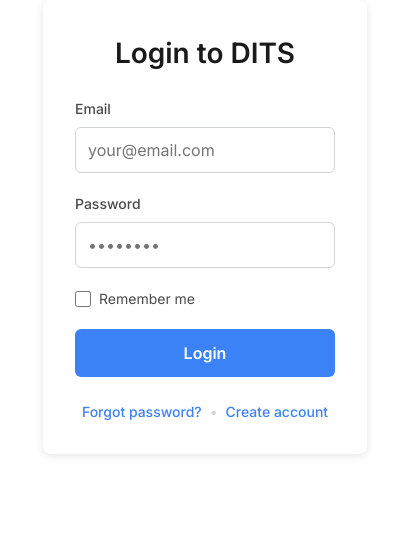
Scenario: LoginForm - Validation Logic › should display error message when login fails
The image size is (411, 537).
Type "test@example.com" into the field labelled "Email".
click(205, 150); type("test@example.com")  # box x1=75 y1=127 x2=335 y2=173
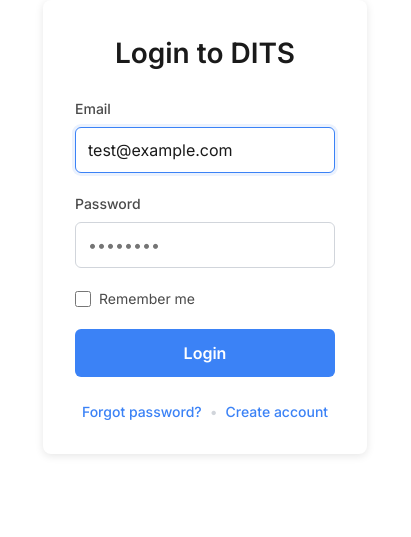
Type "wrongpassword" into the password field labelled "Password".
click(205, 245); type("wrongpassword")  # box x1=75 y1=222 x2=335 y2=268
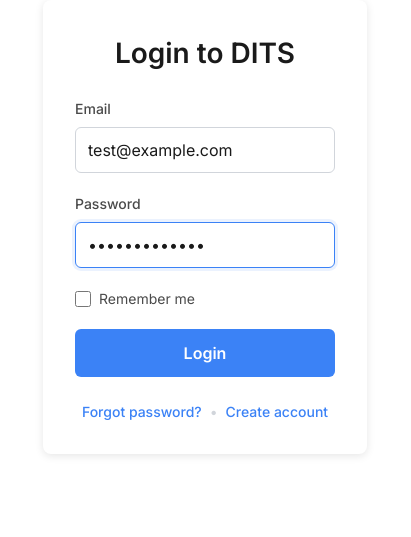
Click the button "Login".
click(205, 353)  # box x1=75 y1=329 x2=335 y2=377
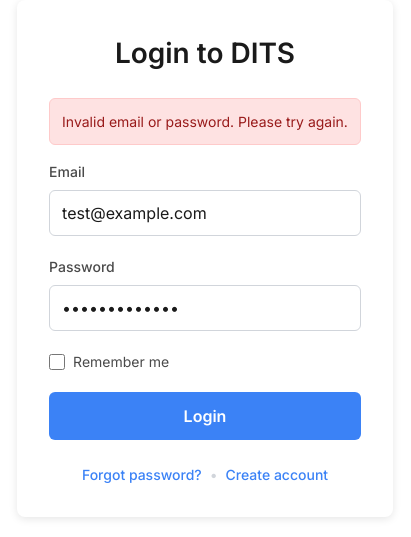
Result: the message reads "Invalid email or password. Please try again." at x1=62 y1=113 x2=348 y2=130
